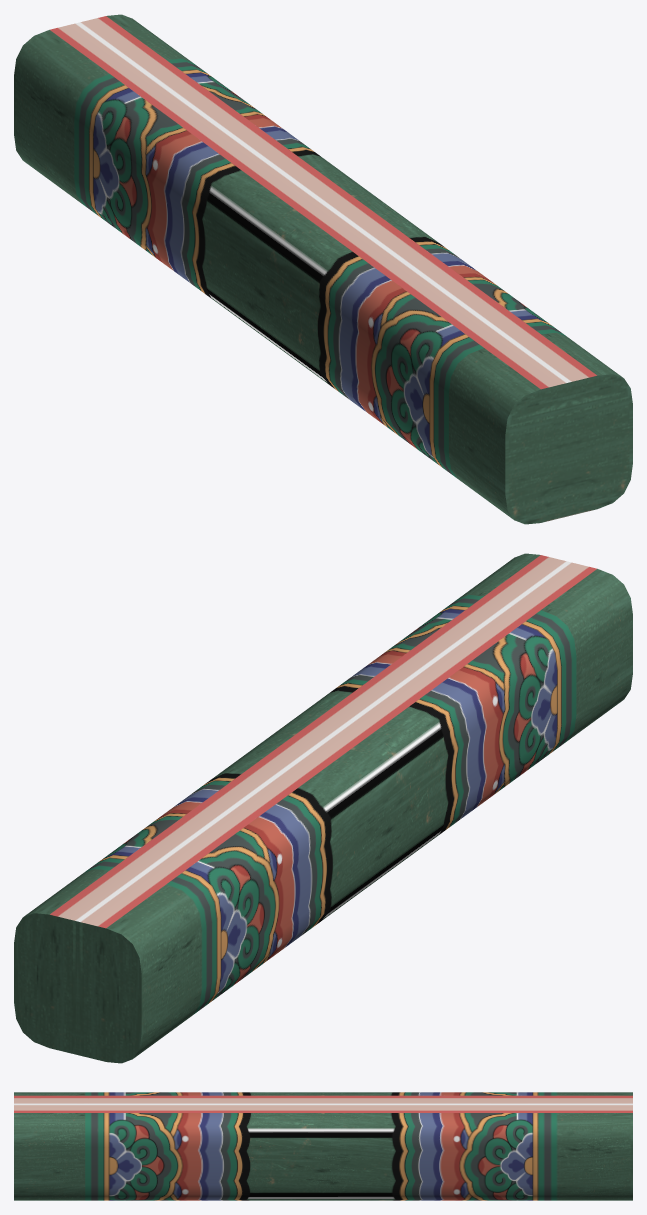
The model's file is SM_CGJ_Lintel02d.fbx.
The picture shows the model from 3 angles, top to bottom: view 1: azimuth 30°, elevation 25°; view 2: azimuth 150°, elevation 25°; view 3: azimuth 270°, elevation 25°; orthographic projection. The views are drawn at different scales.
Parts seen in each view (by area): view 1: SM_CGJ_Lintel02d; view 2: SM_CGJ_Lintel02d; view 3: SM_CGJ_Lintel02d.
Part boxes in pixels (<box>): SM_CGJ_Lintel02d: <box>14,14,632,524</box>; SM_CGJ_Lintel02d: <box>14,553,632,1063</box>; SM_CGJ_Lintel02d: <box>14,1092,632,1200</box>.
Bounding box in the file's own units: 22.5 × 150 × 22.5.
1 material, 1 textured.
